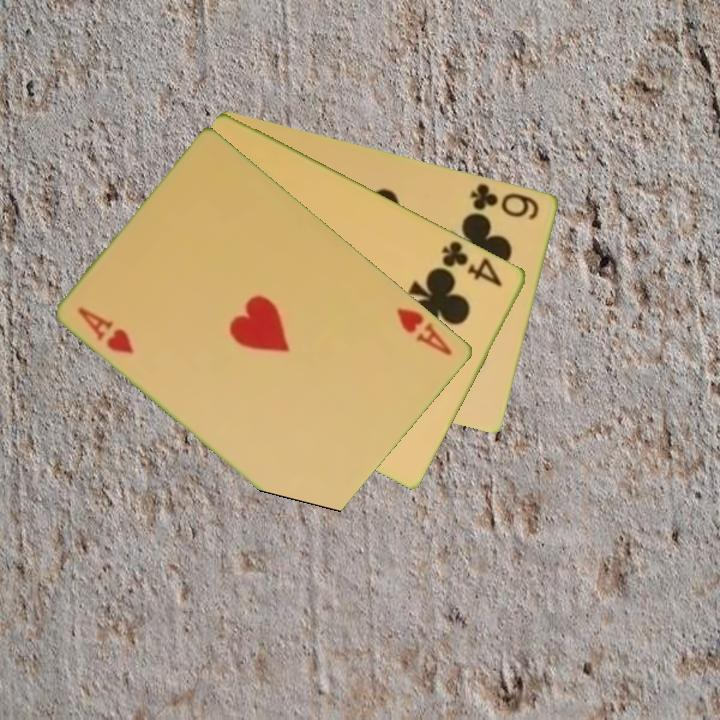4c: (438, 237, 507, 290)
6c: (467, 179, 543, 223)
Ah: (393, 304, 456, 359), (74, 303, 137, 357)
